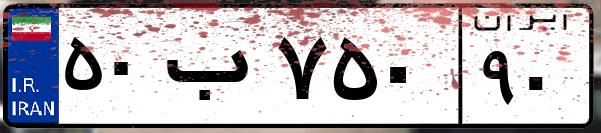0: (385, 28, 445, 110), (525, 38, 570, 115), (110, 28, 158, 98)
5: (330, 28, 385, 110), (57, 26, 110, 100)
7: (270, 28, 330, 110)
9: (475, 38, 525, 113)
ب: (158, 20, 270, 120)
